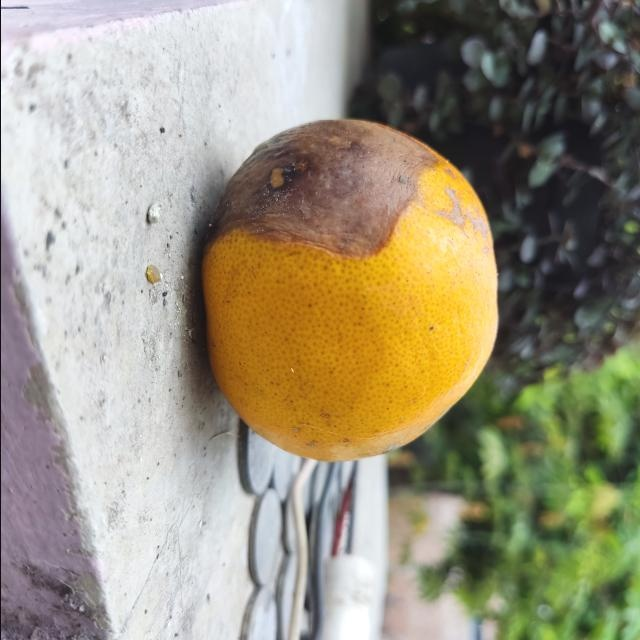agrume: (198, 115, 498, 461)
